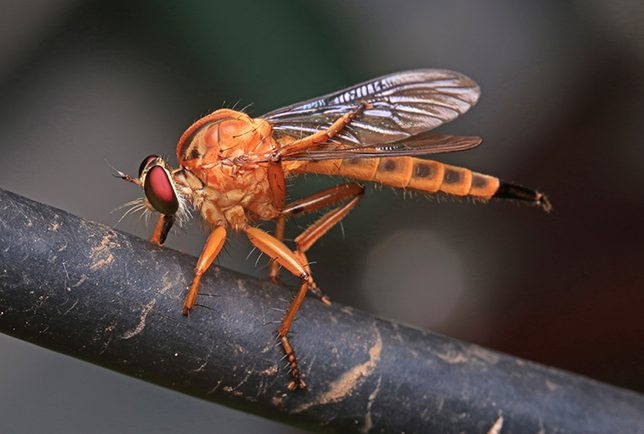phorid fly: (104, 41, 583, 386)
